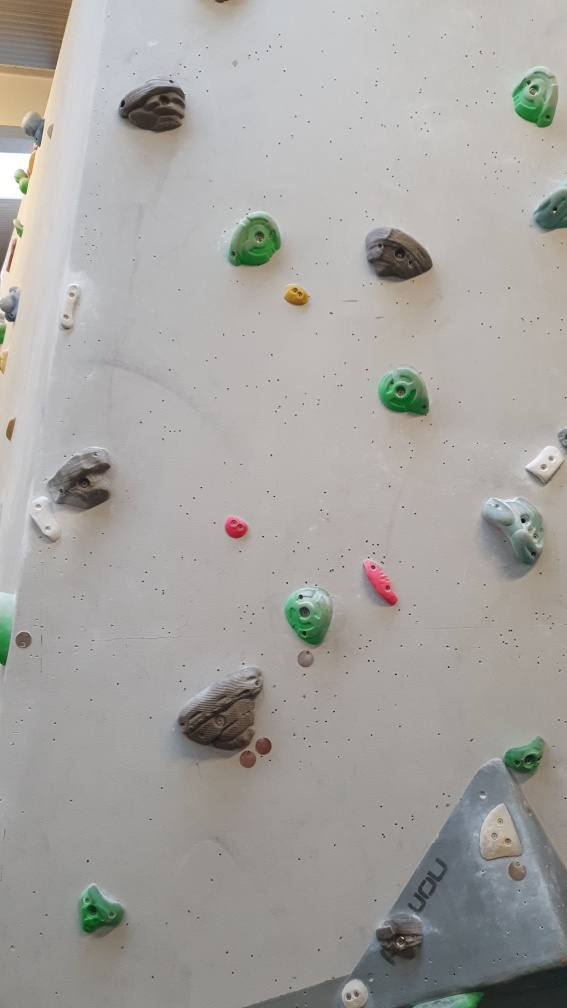Crimp: (362, 561, 399, 609), (26, 495, 61, 545), (523, 442, 565, 482), (56, 283, 84, 333)
Hand Start: (12, 627, 35, 652), (507, 860, 530, 885), (238, 751, 261, 773), (296, 645, 313, 673), (255, 739, 276, 755)
Jug: (173, 662, 267, 751), (478, 492, 550, 572), (356, 221, 438, 287), (117, 71, 193, 137), (283, 584, 340, 649), (228, 208, 284, 272), (379, 364, 436, 423), (514, 60, 559, 133), (508, 737, 545, 779)
